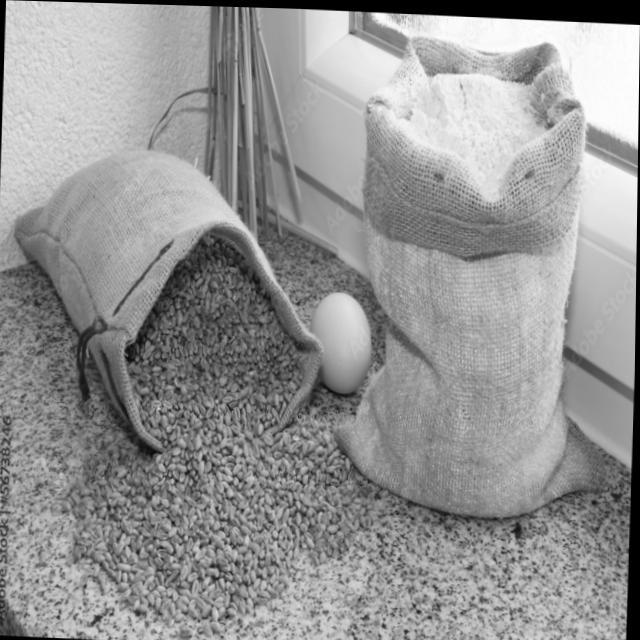sack: (333, 28, 618, 520), (7, 140, 329, 458)
